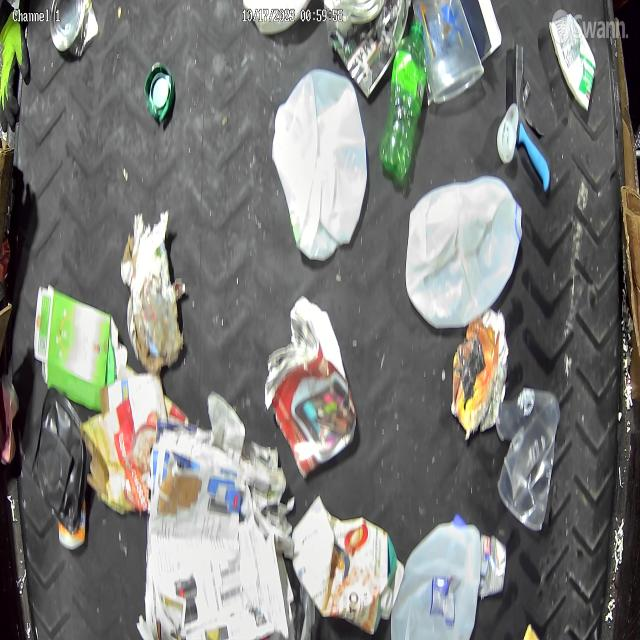can: (49, 0, 99, 57), (478, 533, 507, 599)
milk_jug: (405, 175, 525, 332), (270, 68, 366, 256), (392, 511, 483, 640)
non_white_jug: (292, 496, 404, 634), (34, 284, 123, 412)
